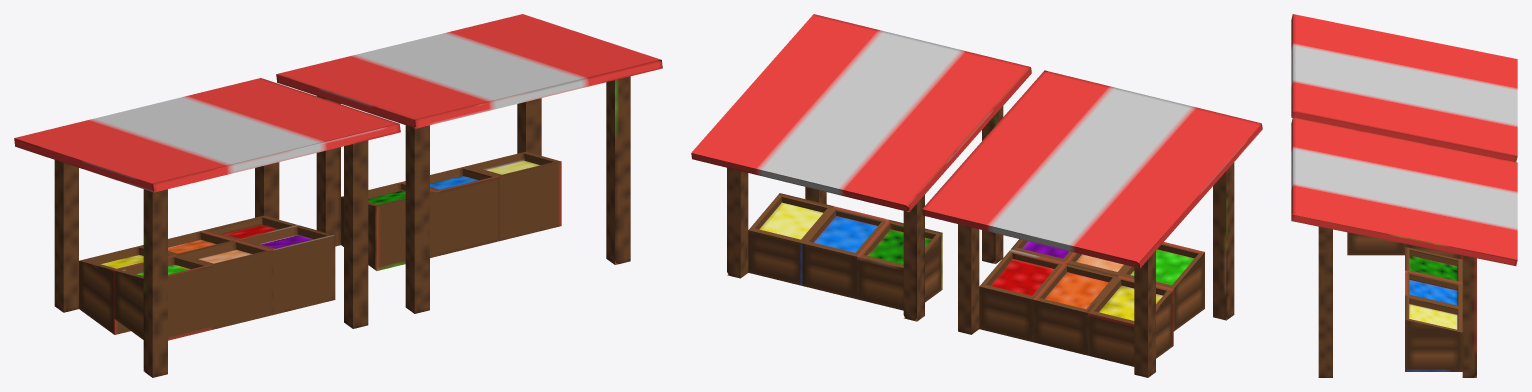
File: market.fbx
The picture shows the model from 3 angles, left to right: view 1: azimuth 30°, elevation 25°; view 2: azimuth 150°, elevation 25°; view 3: azimuth 270°, elevation 25°; orthographic projection. The views are drawn at different scales.
Visible parts, largest first — view 1: cuboid, cuboid_1; view 2: cuboid, cuboid_1; view 3: cuboid_1, cuboid.
Part boxes in pixels (left/top/right/bottom): cuboid: left=14, top=78, right=400, bottom=377; cuboid_1: left=276, top=14, right=662, bottom=313; cuboid: left=922, top=70, right=1262, bottom=377; cuboid_1: left=691, top=14, right=1031, bottom=321; cuboid_1: left=1291, top=117, right=1517, bottom=377; cuboid: left=1291, top=14, right=1517, bottom=259.
Size of the model in its own units: 206 by 81.13 by 98.31.
1 material, 1 textured.
